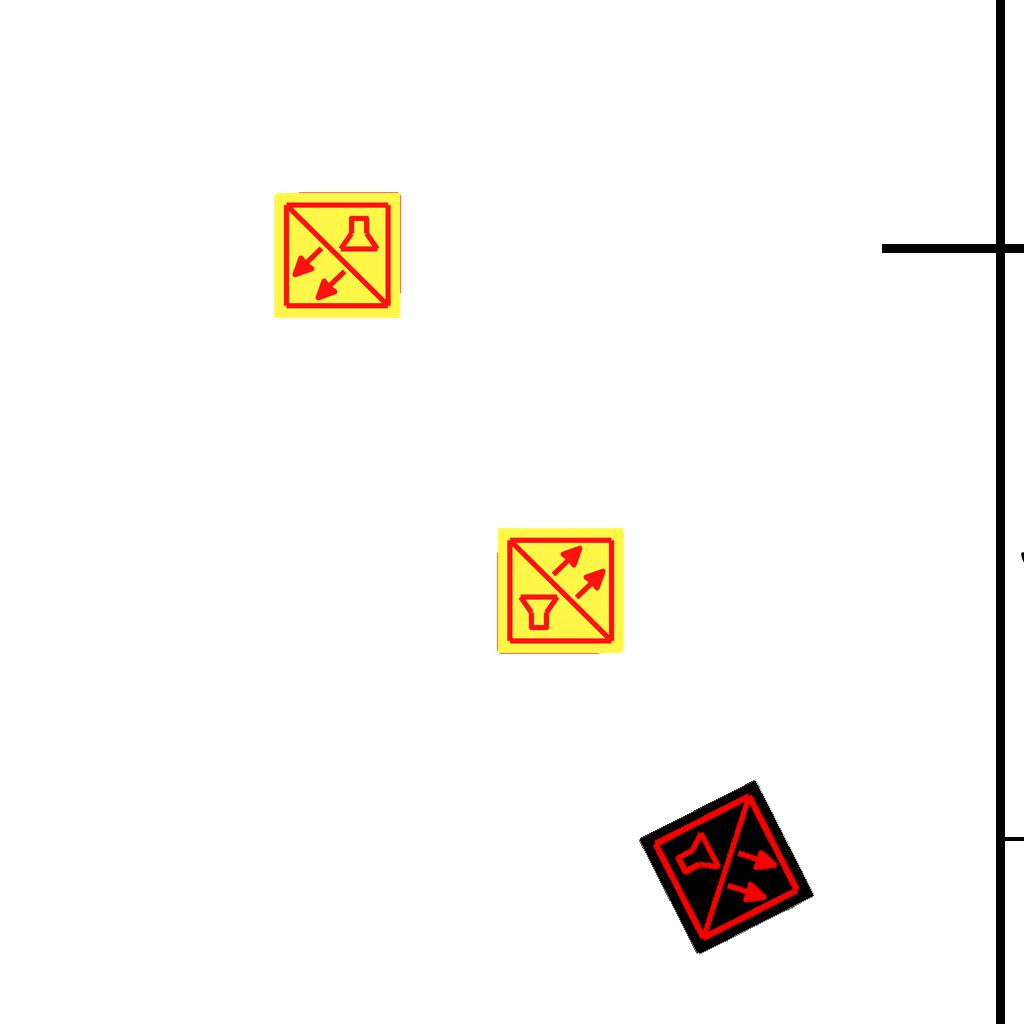OKW_Multisensormelder_(Kombination_optischer_Rauch-Kahlenmonoxid_Waerme-Melder): (638, 779, 816, 957), (495, 525, 627, 657), (271, 189, 403, 321)
